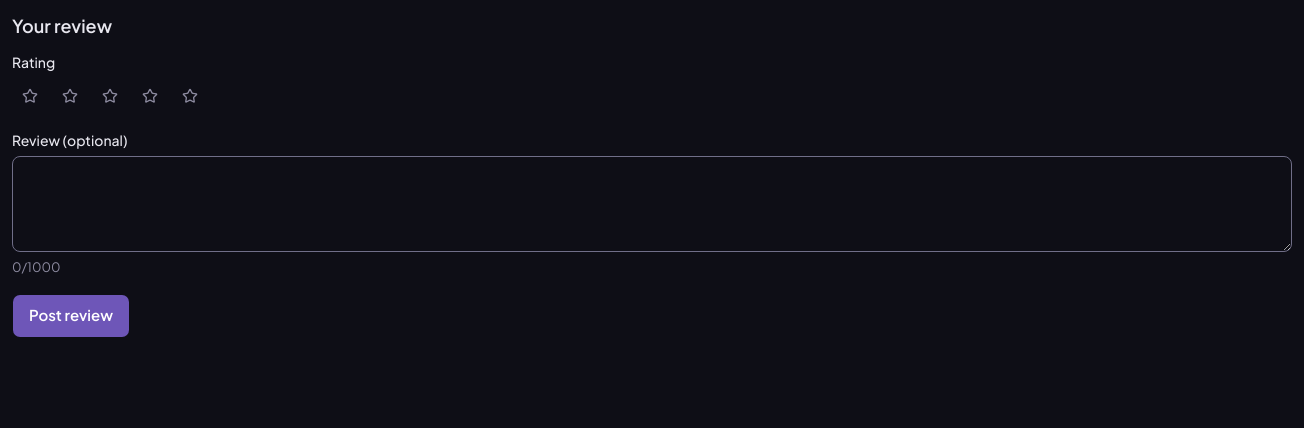
Scenario: a backend error shows its message in an alert above the form
This screenshot has width=1304, height=428.
Click the radio button named "3 stars" at (110, 96), box [102,88,118,104]
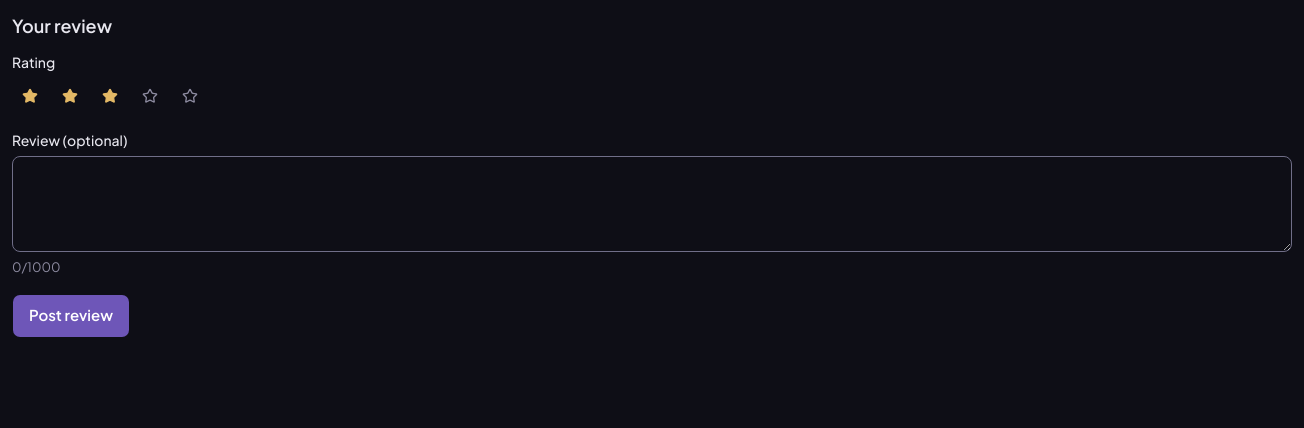
Click the button "Post review" at (71, 316), box [12,294,130,338]
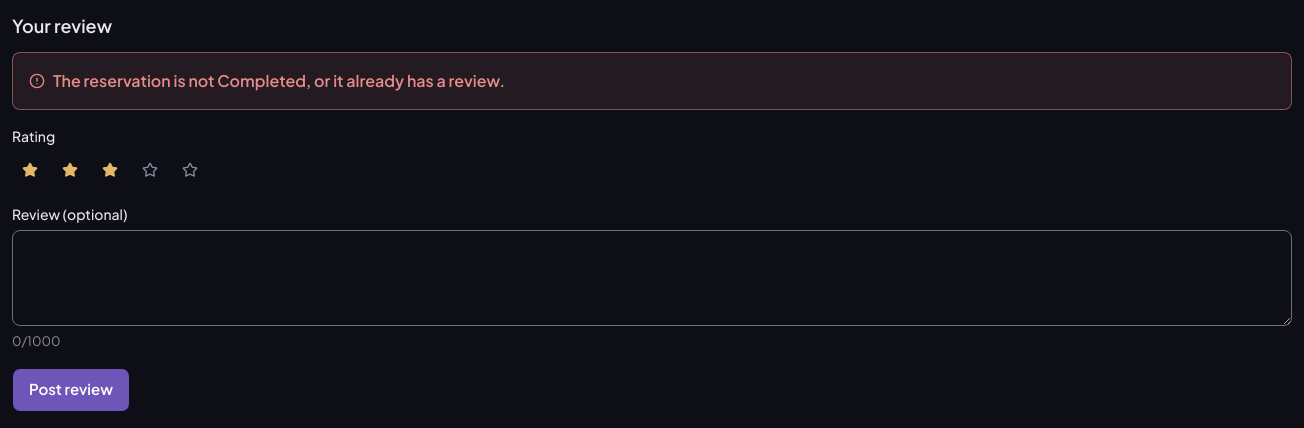
Check: the message reads "The reservation is not Completed, or it already has a review.", box [53,70,505,91]
